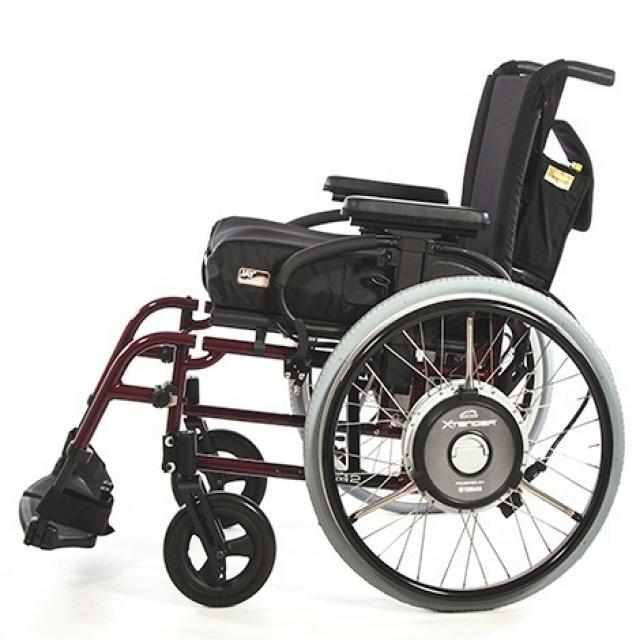wheelchair: (14, 47, 634, 619)
